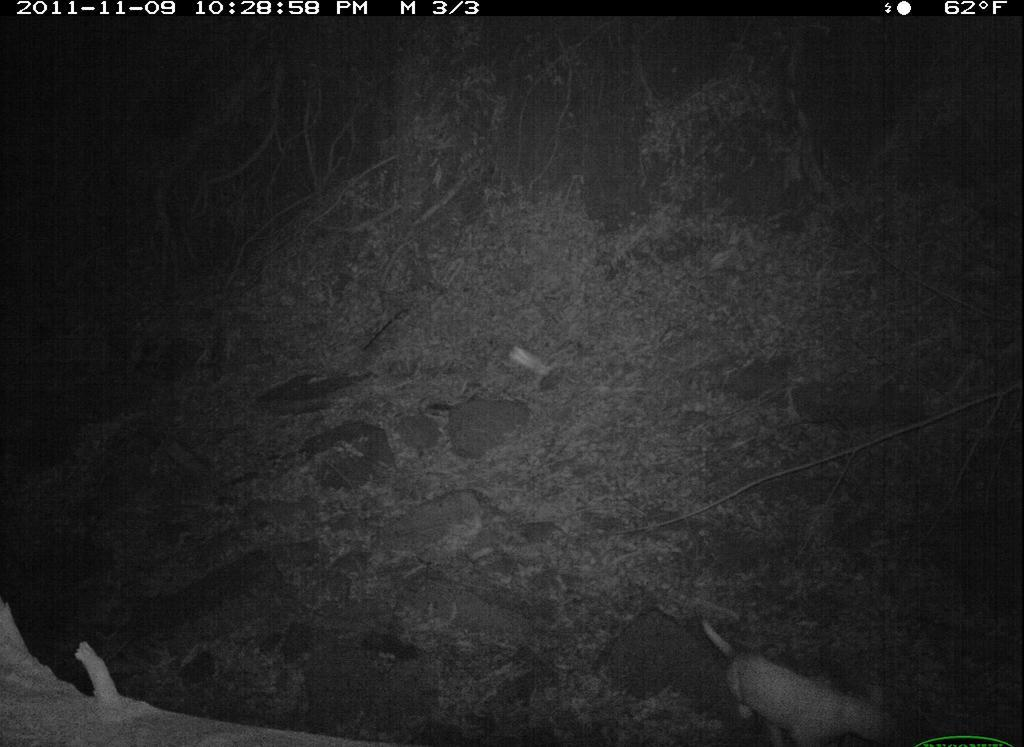cat: (680, 603, 903, 747)
